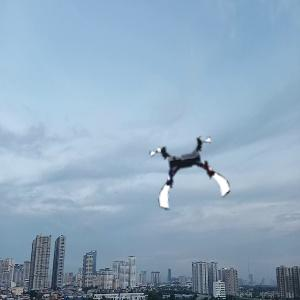drone: (153, 136, 230, 213)
